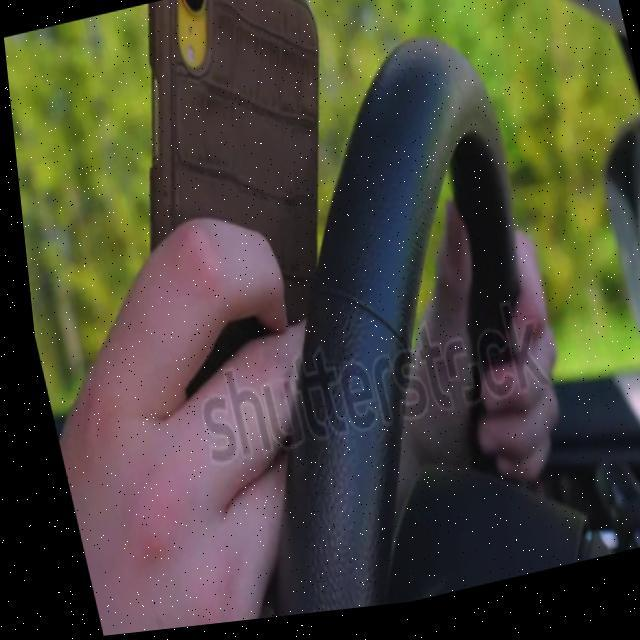PhoneCall: (92, 0, 378, 392)
